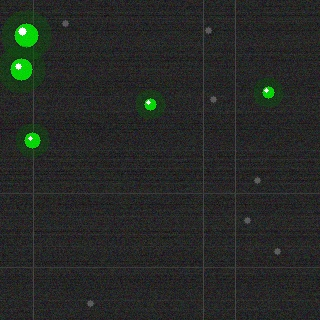green_normal: (12, 21, 40, 49), (8, 56, 34, 82), (22, 130, 42, 150), (260, 84, 276, 100), (142, 96, 158, 112)
